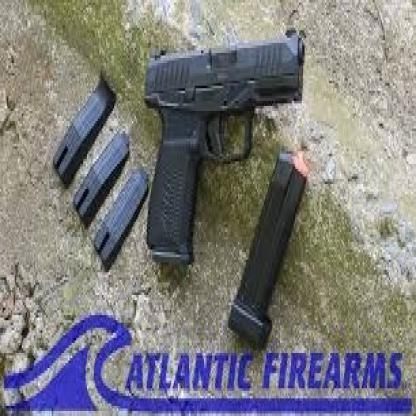Pistol: (135, 28, 312, 272)
